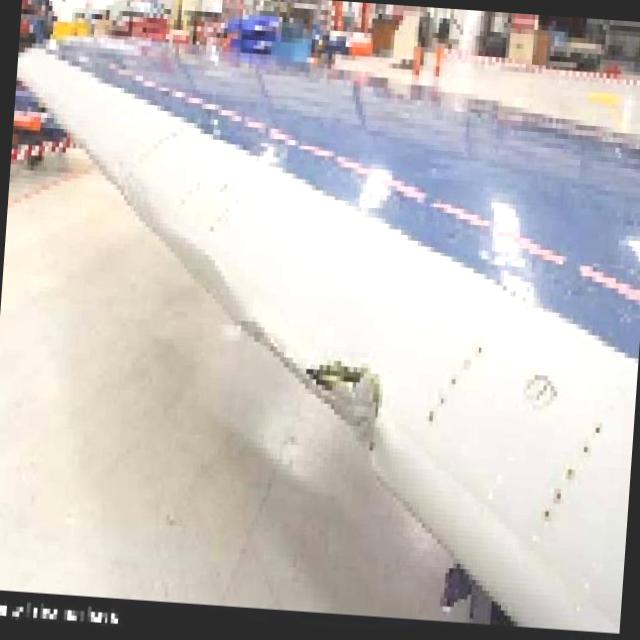crack: (296, 360, 383, 462)
dent: (153, 227, 254, 335)
